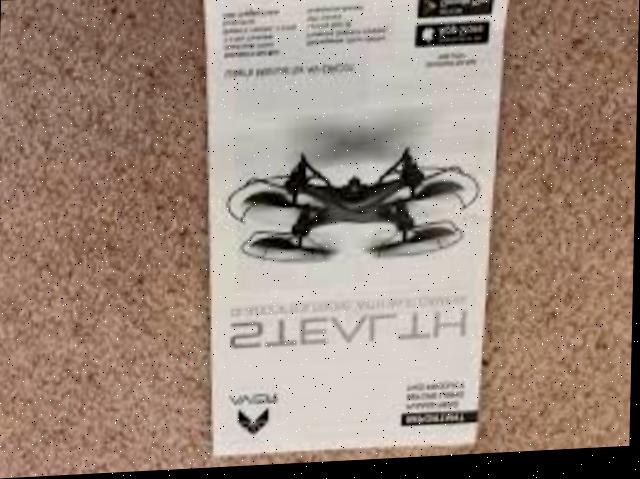drone: (214, 138, 486, 278)
